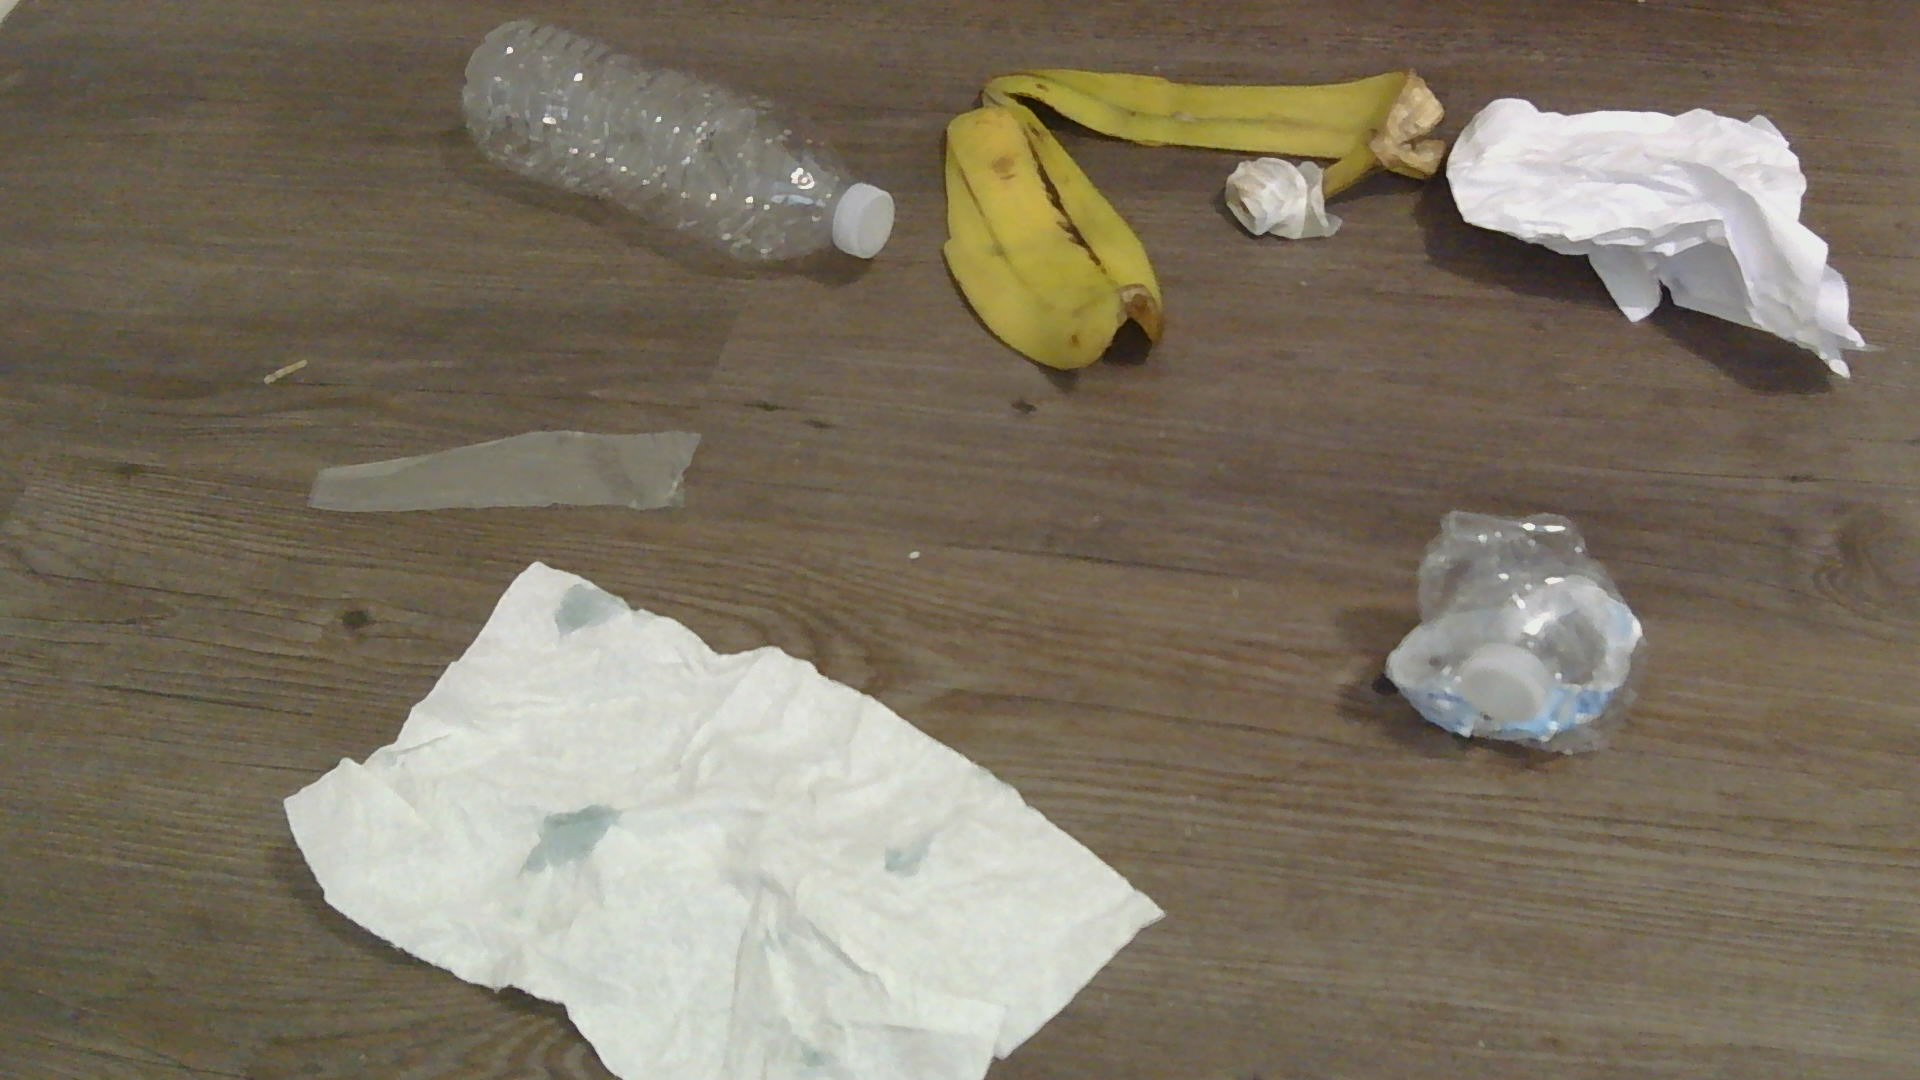banana peel: (942, 66, 1443, 375)
bottle: (462, 18, 891, 266)
crushed bottle: (1374, 510, 1647, 760)
napkin: (282, 558, 1155, 1080)
paper: (1447, 90, 1863, 375)
plastic piece: (306, 426, 699, 520)
